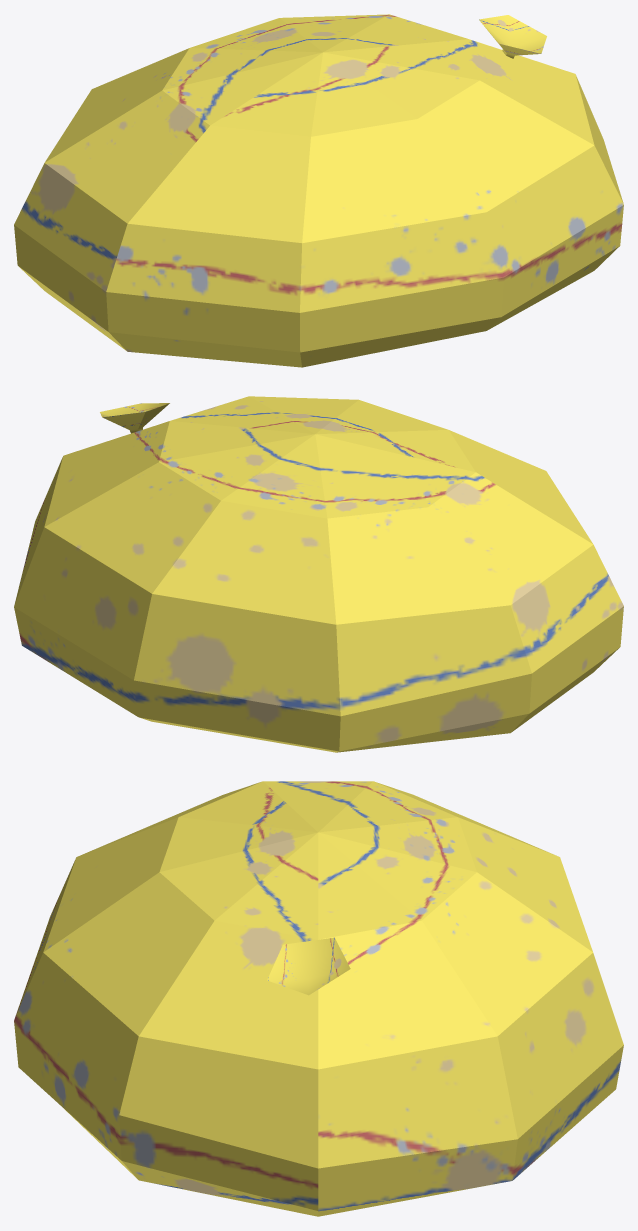
Rendered from WaterBalloon_Landmine_4.fbx.
3 renders of one model, top to bottom at view 1: azimuth 30°, elevation 25°; view 2: azimuth 150°, elevation 25°; view 3: azimuth 270°, elevation 25°, orthographic. The views are drawn at different scales.
Visible parts, largest first — view 1: pSphere2, pCylinder1; view 2: pSphere2, pCylinder1; view 3: pSphere2, pCylinder1.
Boxes of the visible parts, box(x1,y1,x2,y2) form: pSphere2: box(14, 14, 623, 367); pCylinder1: box(479, 15, 546, 58); pSphere2: box(14, 396, 623, 752); pCylinder1: box(100, 403, 169, 433); pSphere2: box(14, 781, 623, 1216); pCylinder1: box(267, 937, 350, 995).
Size of the model in its own units: 626 by 232 by 529.
Materials: 1 (1 with a texture image).
